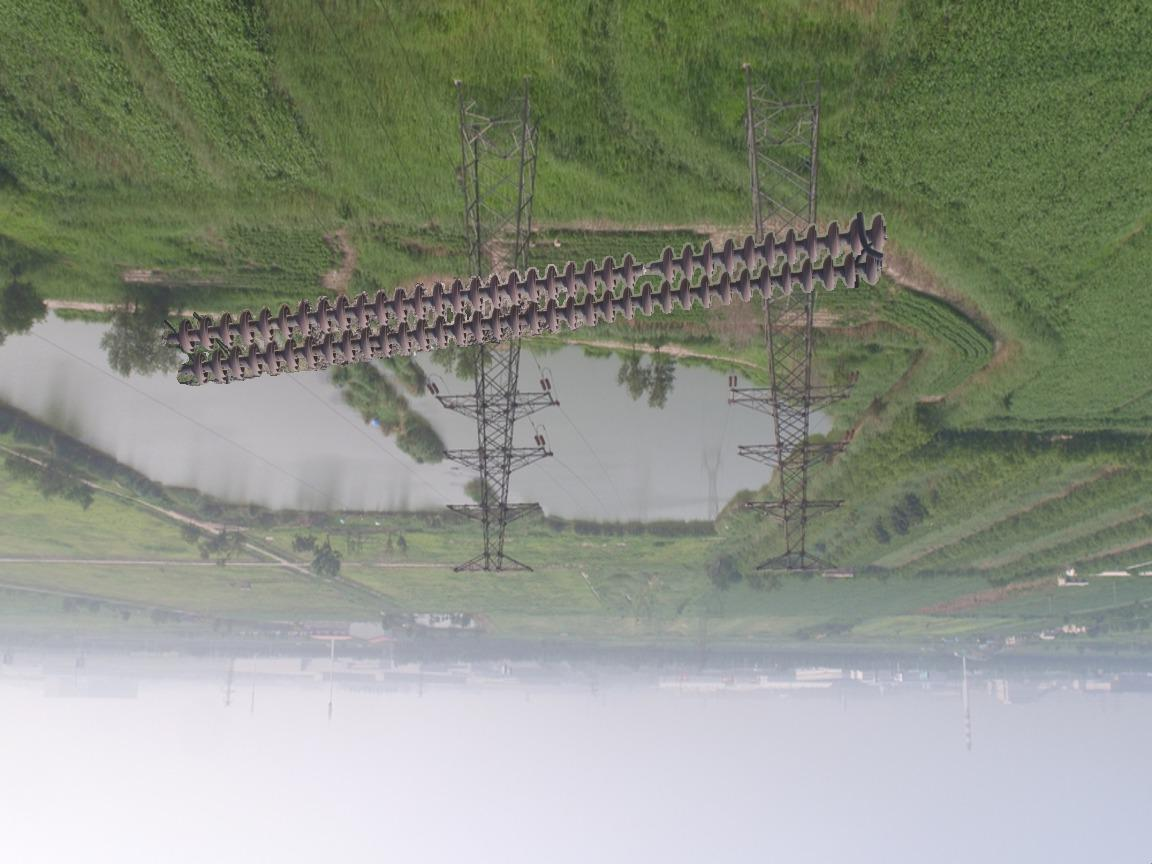insulator: (170, 205, 896, 388)
insulator_stringdrop: (619, 244, 678, 289)
